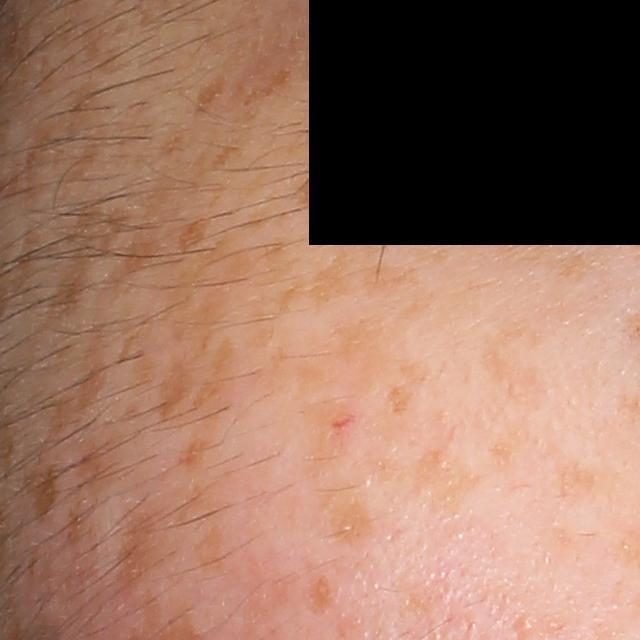comedo: (509, 612, 539, 638)
melasma: (164, 207, 303, 360), (42, 200, 139, 333), (328, 287, 438, 401), (371, 419, 489, 523), (33, 321, 116, 463), (478, 305, 559, 426), (334, 206, 432, 297), (109, 499, 178, 607), (489, 216, 596, 280), (279, 159, 398, 212), (274, 246, 354, 319), (301, 392, 371, 474), (188, 331, 242, 422), (549, 441, 612, 507), (153, 350, 202, 432), (19, 451, 66, 536), (315, 476, 372, 546), (77, 431, 128, 507), (383, 354, 437, 421), (483, 415, 540, 472), (171, 417, 223, 471), (243, 64, 294, 111), (123, 227, 168, 276), (188, 522, 226, 579), (191, 70, 230, 121), (302, 569, 339, 621), (178, 217, 214, 256)
